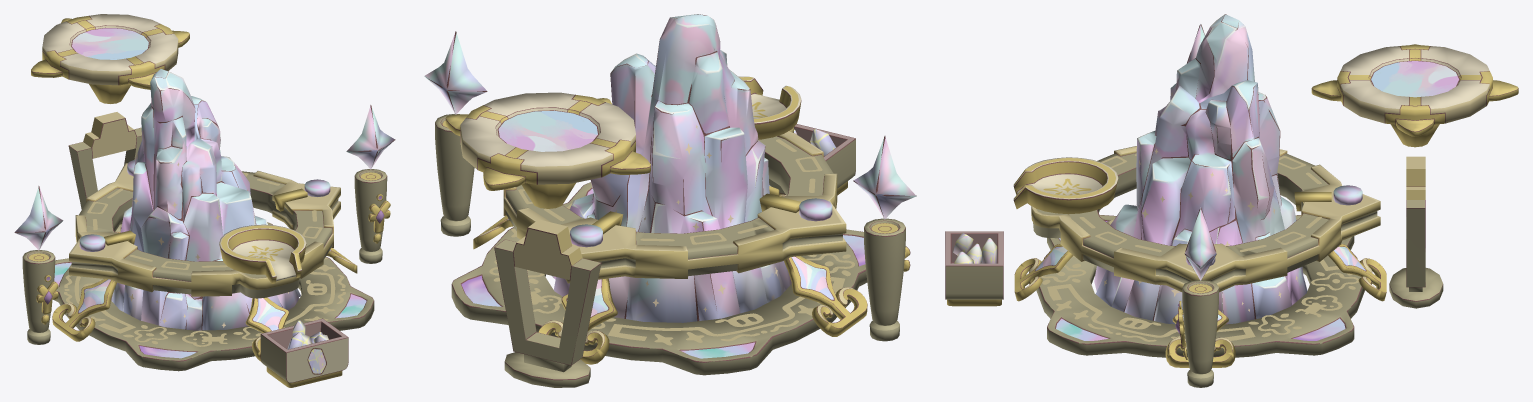
File: Mesh_Home_MagicMine_SM.FBX
3 renders of one model, left to right at view 1: azimuth 30°, elevation 25°; view 2: azimuth 150°, elevation 25°; view 3: azimuth 270°, elevation 25°, orthographic. The views are drawn at different scales.
Visible parts, largest first — view 1: Mesh_Home_MagicMine; view 2: Mesh_Home_MagicMine; view 3: Mesh_Home_MagicMine.
Boxes of the visible parts, box(x1,y1,x2,y2) form: Mesh_Home_MagicMine: box(14, 14, 395, 387); Mesh_Home_MagicMine: box(424, 14, 916, 387); Mesh_Home_MagicMine: box(945, 14, 1518, 387).
Bounding box in the file's own units: 360 × 204 × 414.
